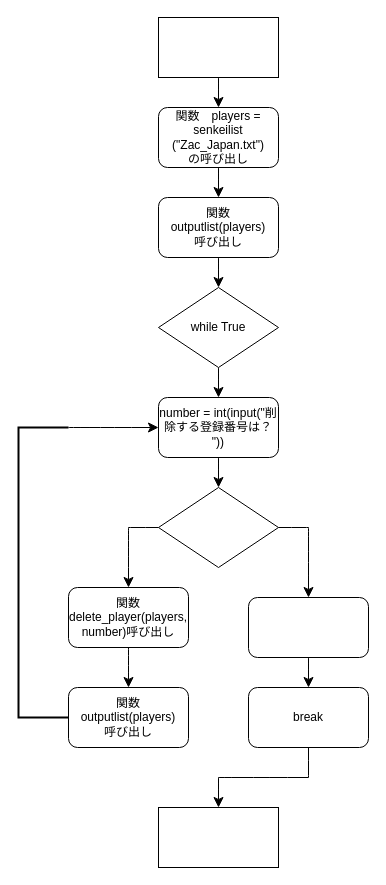
This 386x885 diagram has some shape labels left out. The shapes that lost their labels are listed below. From the top down, each one's centre as x and y in pixels, then its label:
[218,47]: 関数main() 開始
[218,527]: if number == 0
[308,627]: print("プログラムを終了します")
[218,837]: 終了
